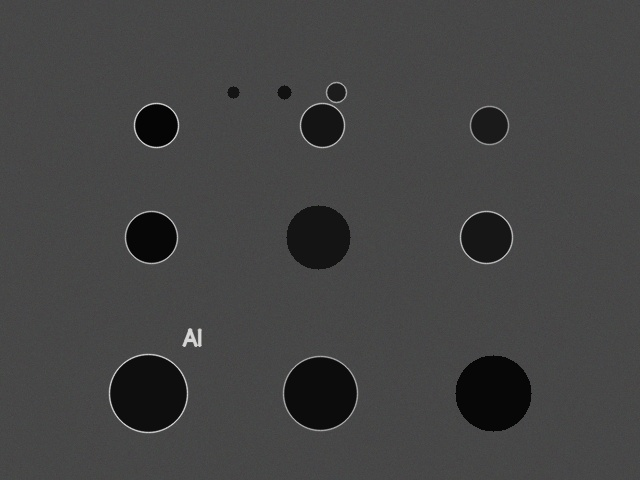hole: (109, 354, 187, 432), (455, 355, 531, 431), (283, 356, 357, 430), (286, 205, 350, 269), (125, 211, 177, 263), (460, 211, 512, 263), (134, 103, 178, 147), (300, 103, 344, 147), (470, 106, 508, 144), (326, 82, 346, 102), (277, 85, 291, 99), (227, 86, 239, 98)
